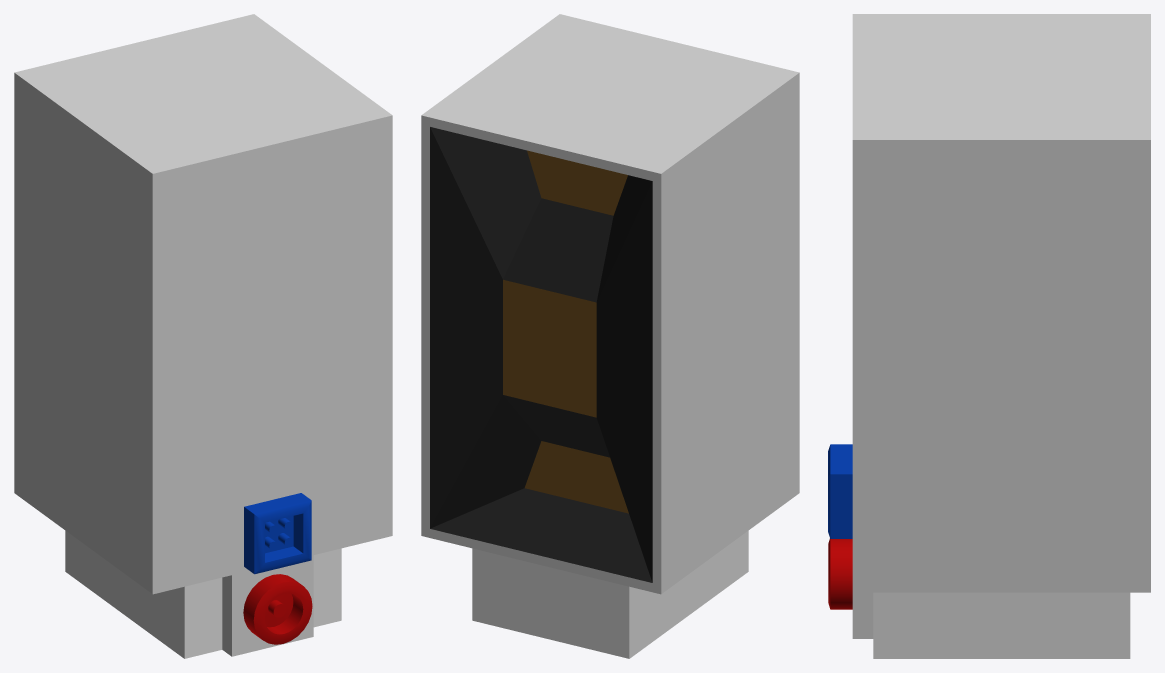
File: TerrainScanner.gltf
3 views of the same model, side by side, from view 1: azimuth 30°, elevation 25°; view 2: azimuth 150°, elevation 25°; view 3: azimuth 270°, elevation 25° (orthographic). The views are drawn at different scales.
Visible parts, largest first — view 1: base; view 2: base; view 3: base.
Boxes of the visible parts, x1,y1,x2,y2 form: base: (14, 14, 392, 658); base: (421, 14, 799, 658); base: (828, 14, 1150, 658).
Size of the model in its own units: 0.25 by 0.5 by 0.2706.
